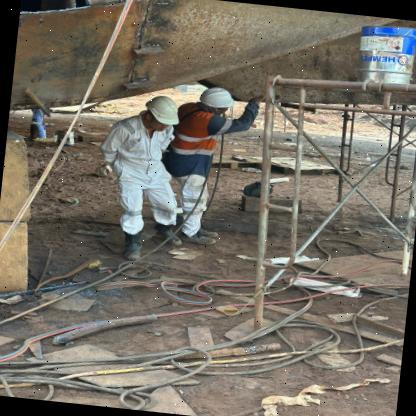bota: (118, 228, 146, 262), (152, 220, 186, 247), (180, 228, 216, 247), (196, 225, 219, 238)
